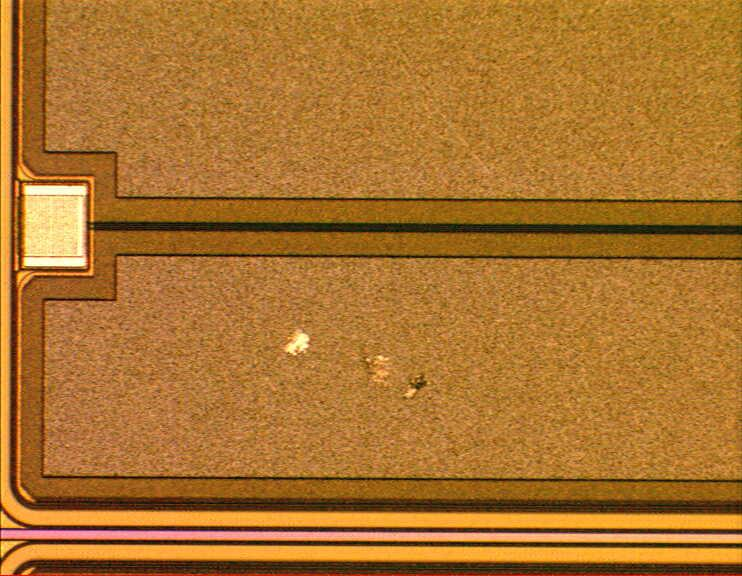SCRATCH: (274, 321, 440, 404)
